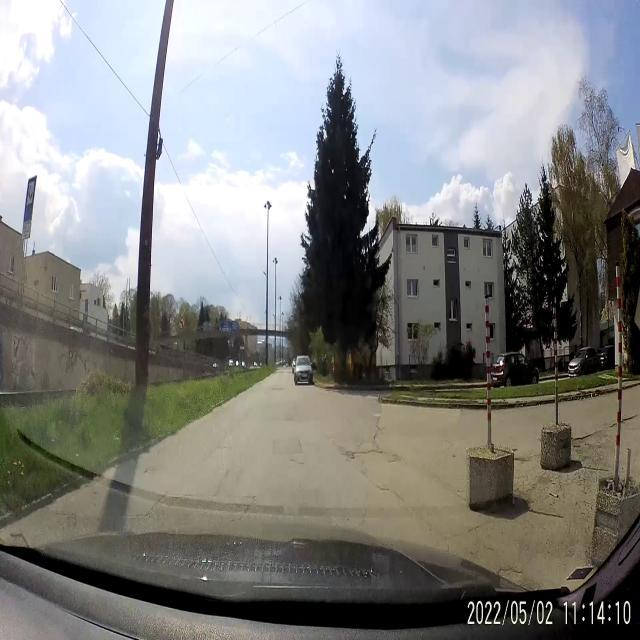Pothole: (342, 442, 384, 468)
